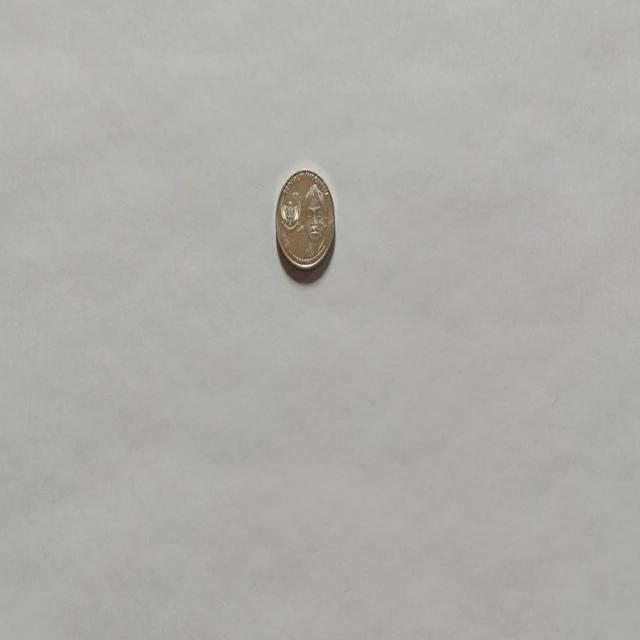dua ratus rupiah: (274, 167, 336, 272)
